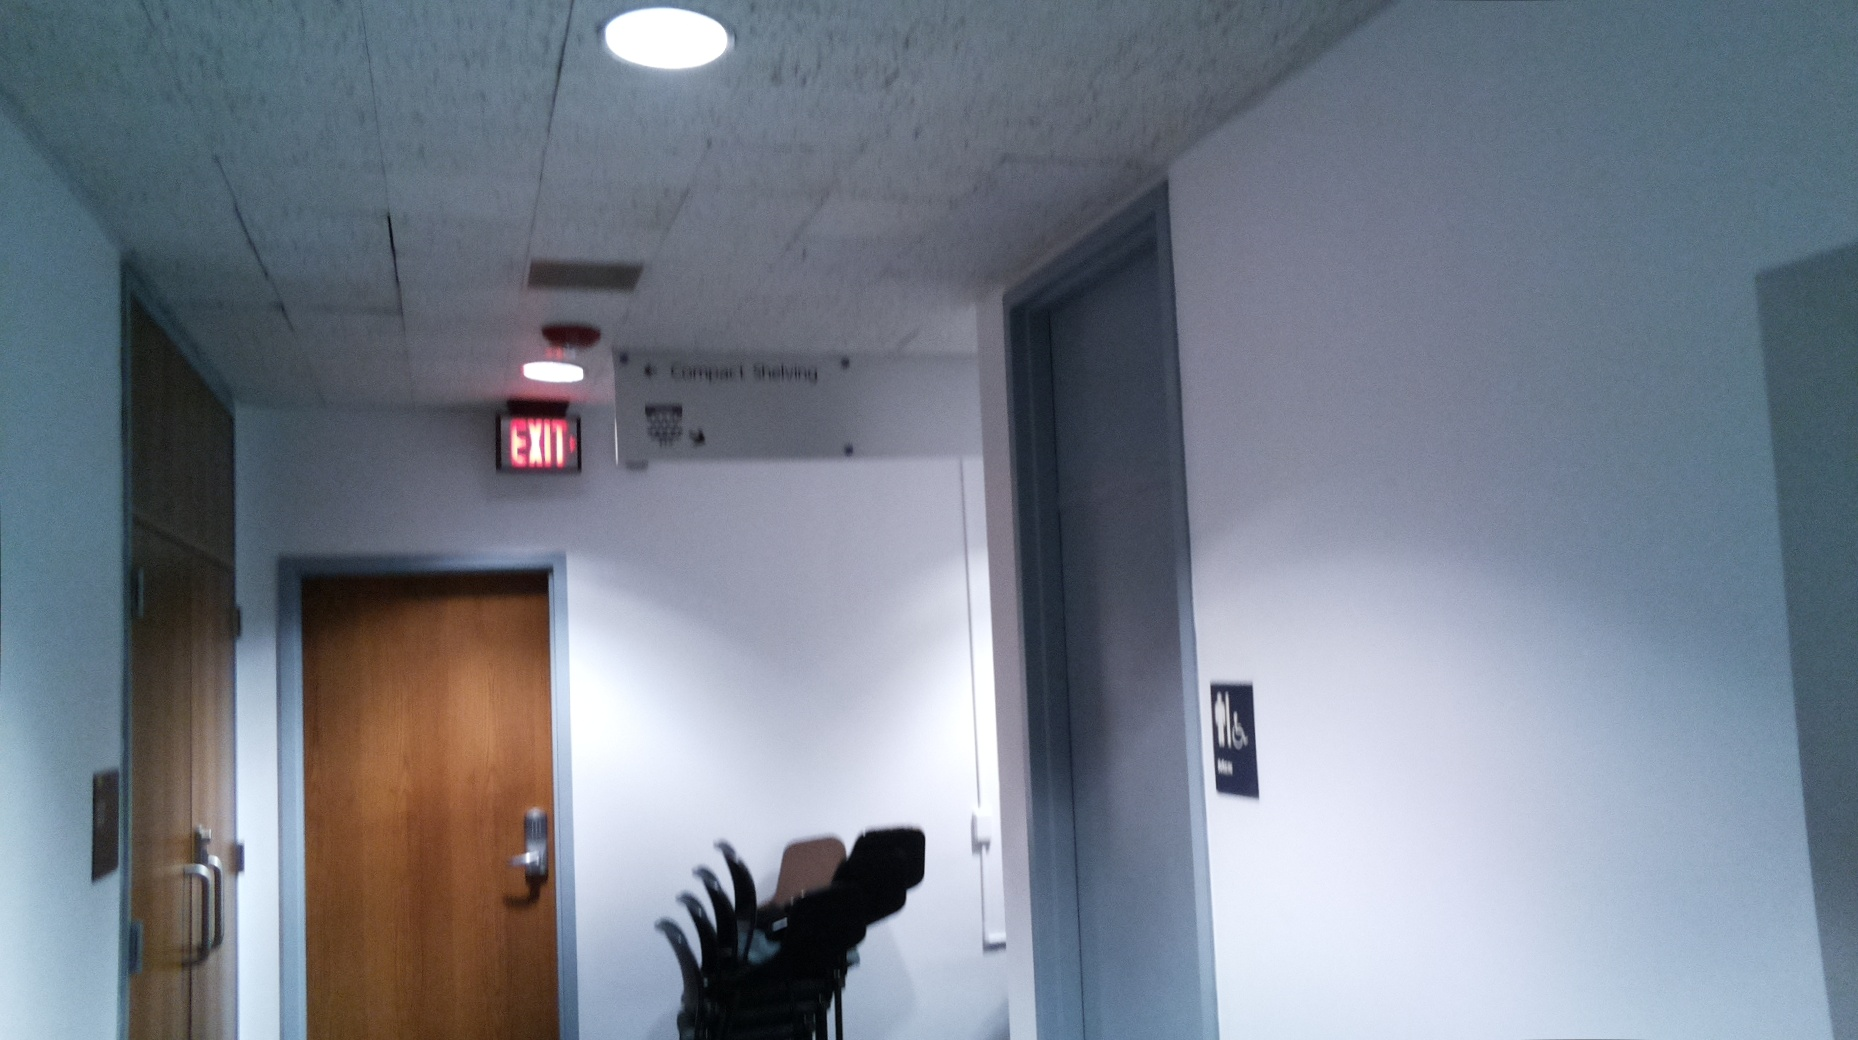bathroom sign: (1208, 675, 1265, 803)
exit sign: (487, 410, 587, 479)
